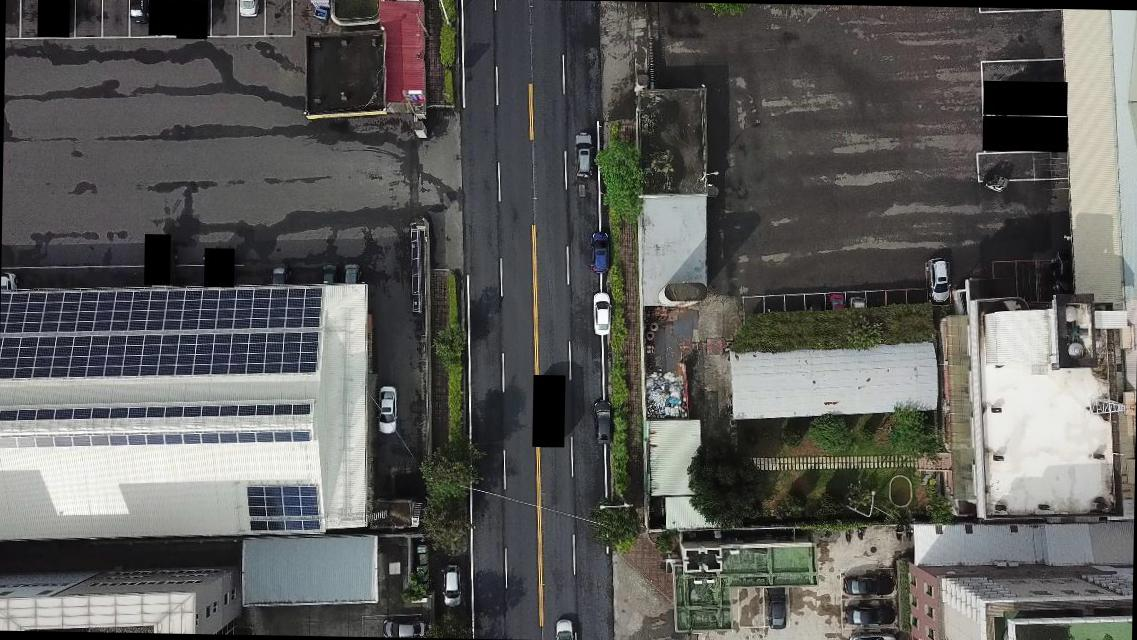vehicle: (845, 601, 895, 626), (926, 256, 951, 302), (844, 575, 894, 597), (377, 384, 399, 433), (592, 398, 614, 444), (382, 616, 428, 638), (439, 563, 462, 606), (766, 586, 787, 630), (590, 230, 610, 274), (592, 290, 612, 334), (574, 129, 592, 176), (552, 613, 574, 639), (128, 0, 149, 27), (270, 259, 291, 283), (235, 0, 259, 19), (342, 261, 360, 285), (322, 261, 338, 284), (846, 632, 898, 639), (2, 269, 18, 291), (828, 292, 846, 310), (850, 295, 866, 307)
